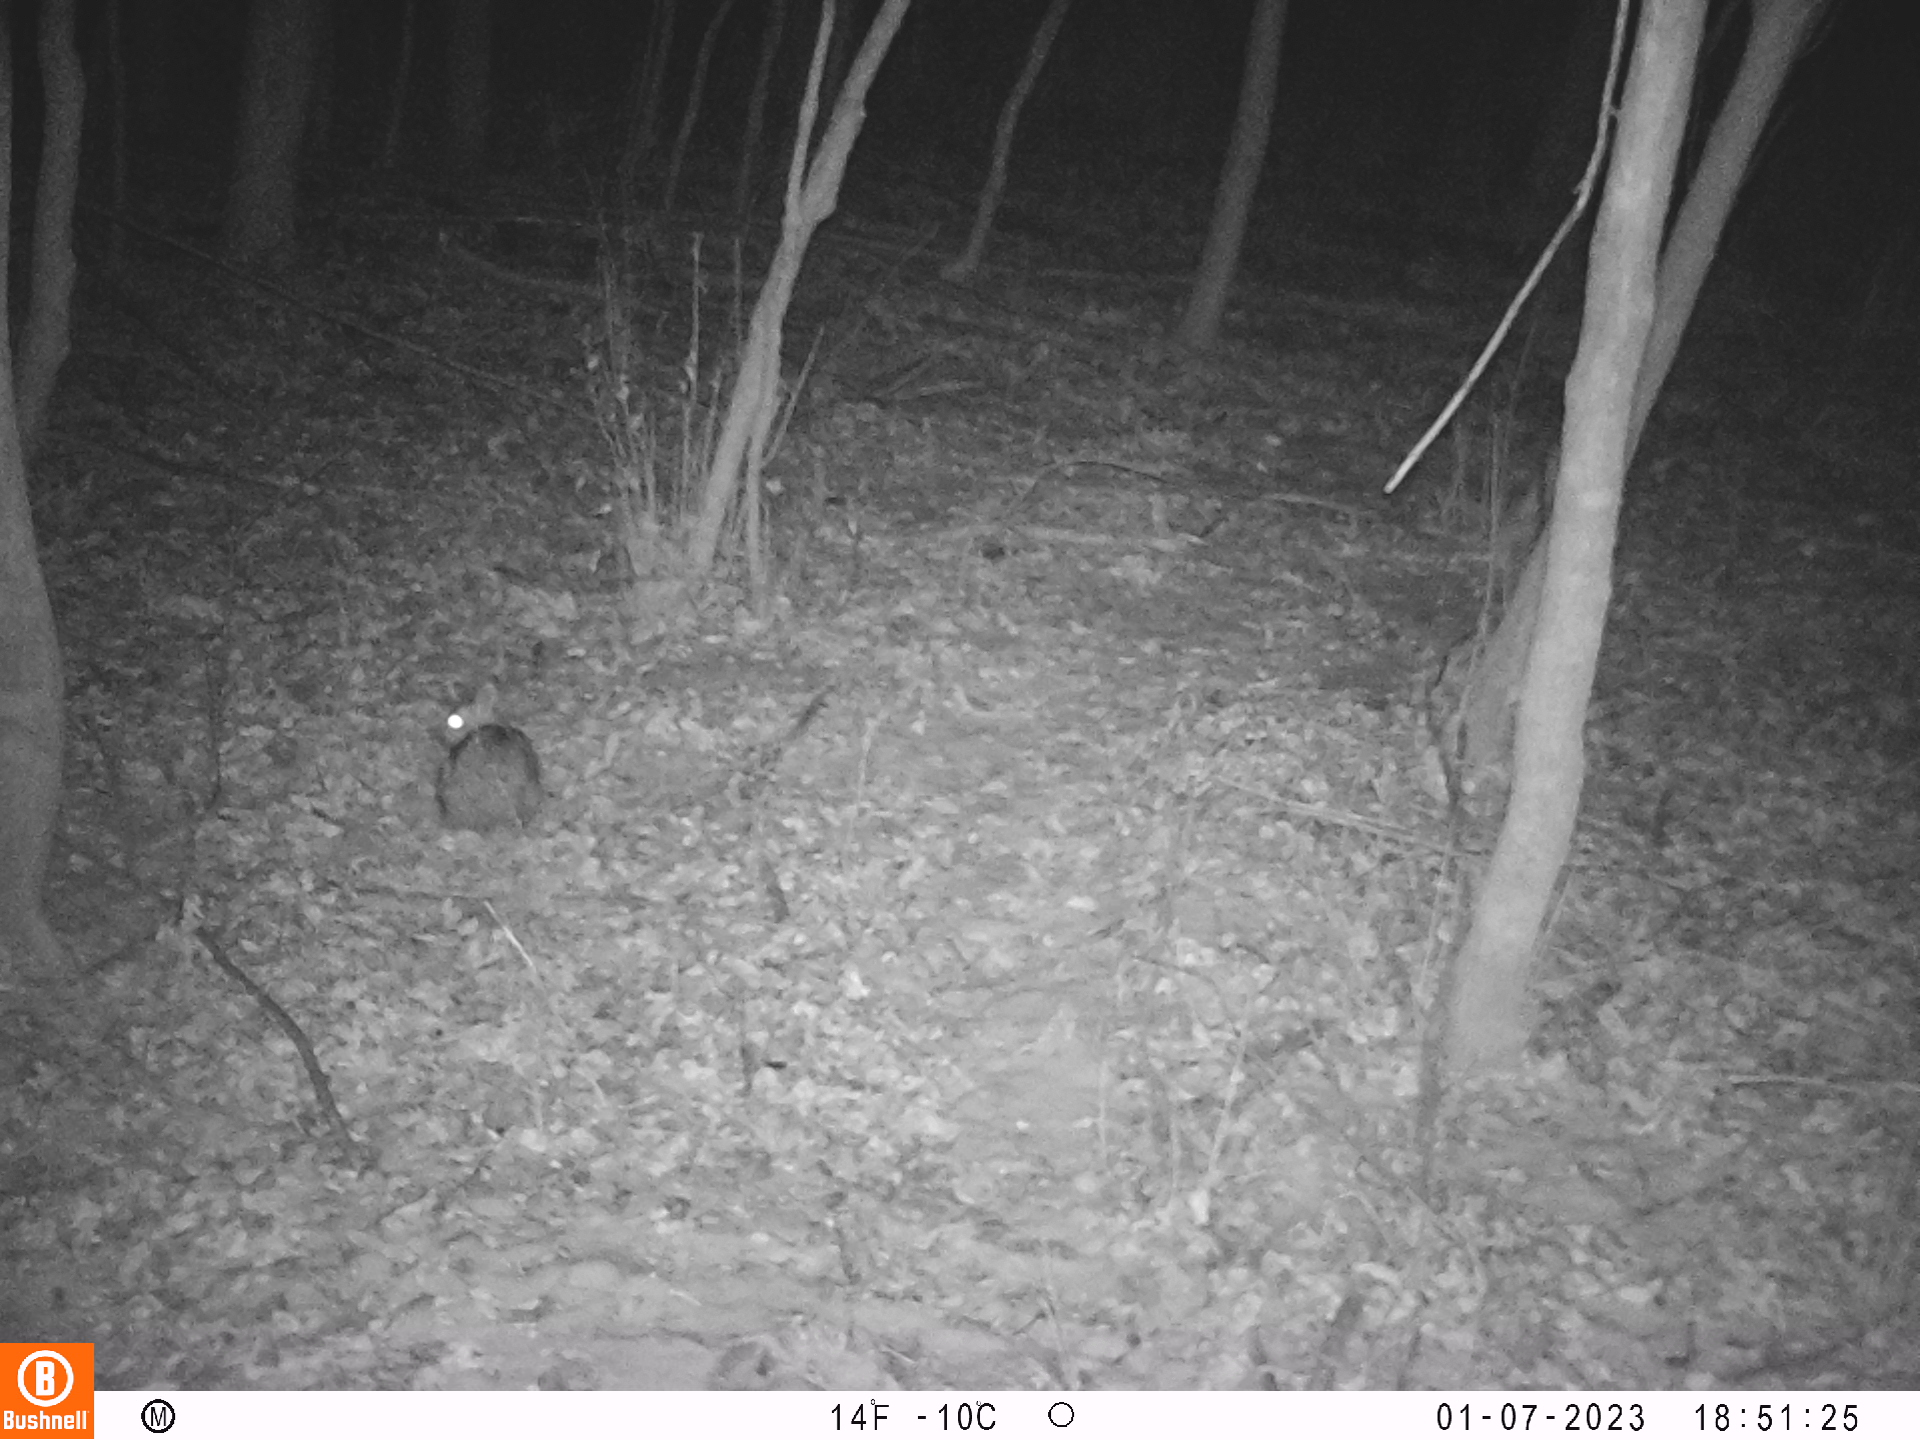Rabbit: (431, 675, 543, 833)
